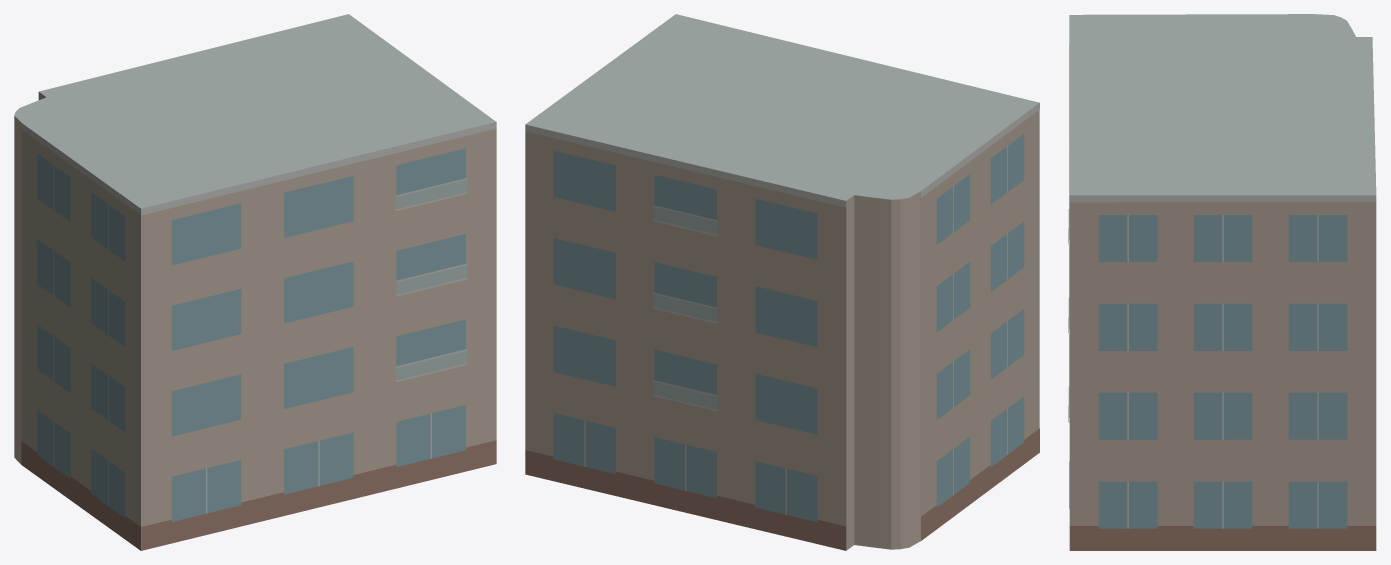
Rendered from survey-upis-32822500.glb.
3 views of the same model, side by side, from view 1: azimuth 30°, elevation 25°; view 2: azimuth 150°, elevation 25°; view 3: azimuth 270°, elevation 25° (orthographic). The views are drawn at different scales.
Visible parts, largest first — view 1: survey-upis-32822500.tmp; view 2: survey-upis-32822500.tmp; view 3: survey-upis-32822500.tmp.
Boxes of the visible parts, x1,y1,x2,y2 form: survey-upis-32822500.tmp: [14, 14, 496, 550]; survey-upis-32822500.tmp: [525, 14, 1039, 550]; survey-upis-32822500.tmp: [1068, 14, 1376, 550].
Size of the model in its own units: 13.67 by 12.5 by 9.82.
